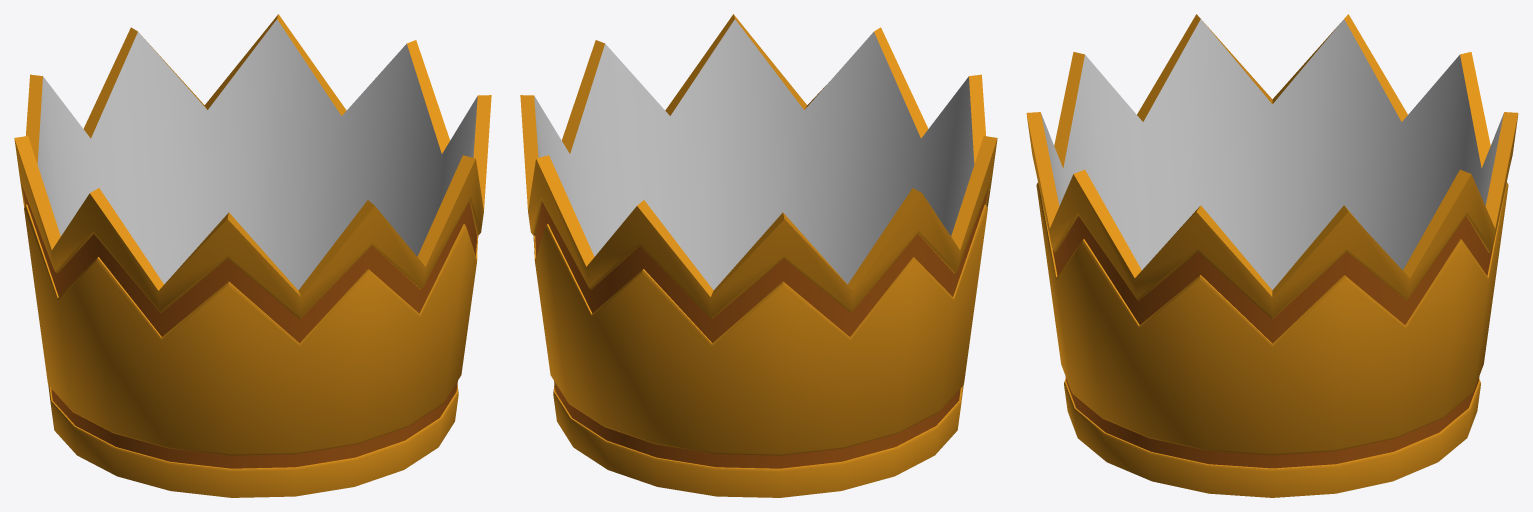
The model's file is Fall Guys Crown.fbx.
3 renders of one model, left to right at view 1: azimuth 30°, elevation 25°; view 2: azimuth 150°, elevation 25°; view 3: azimuth 270°, elevation 25°, orthographic.
Parts seen in each view (by area): view 1: Cylinder; view 2: Cylinder; view 3: Cylinder.
Boxes of the visible parts, x1=… form: Cylinder: x1=14, y1=14, x2=491, y2=497; Cylinder: x1=520, y1=14, x2=997, y2=497; Cylinder: x1=1026, y1=14, x2=1518, y2=497.
Bounding box in the file's own units: 308 × 217 × 324.
